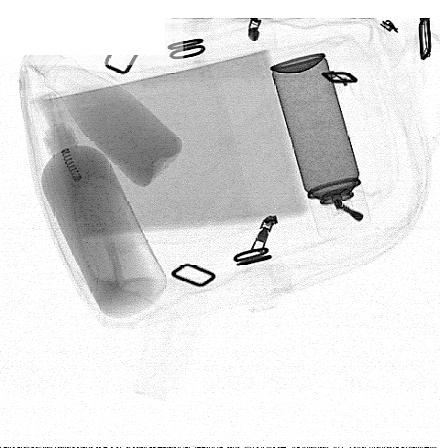Sprayer: (267, 52, 371, 243)
